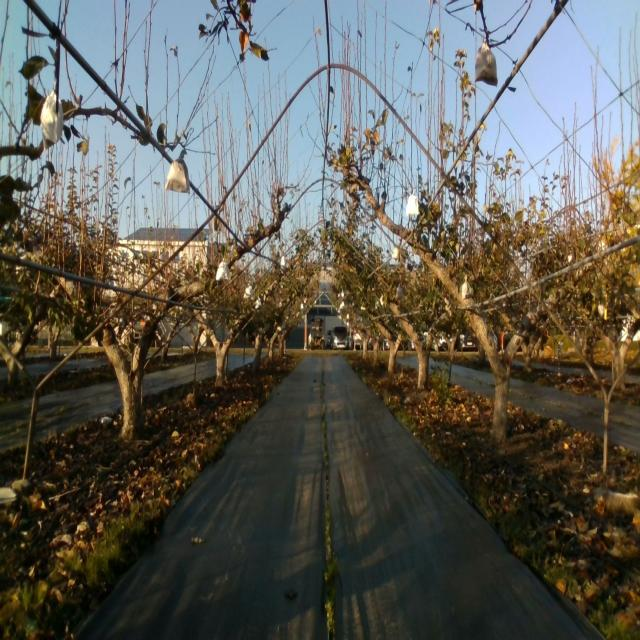pearbags: (40, 80, 63, 146), (474, 42, 498, 86), (167, 149, 190, 192), (404, 188, 420, 218), (216, 258, 231, 280), (462, 274, 472, 300)
